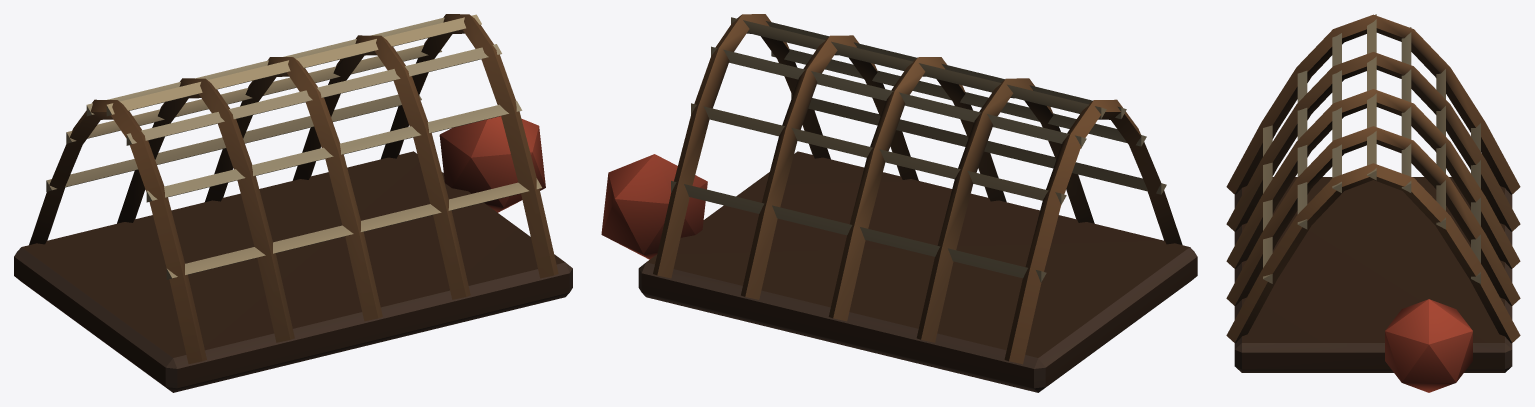
File: HD_LobsterPot.glb
The picture shows the model from 3 angles, left to right: view 1: azimuth 30°, elevation 25°; view 2: azimuth 150°, elevation 25°; view 3: azimuth 270°, elevation 25°; orthographic projection. The views are drawn at different scales.
Visible parts, largest first — view 1: HD_LobsterPot_1_Wood, HD_LobsterPot_2_SmoothPlastic; view 2: HD_LobsterPot_1_Wood, HD_LobsterPot_2_SmoothPlastic; view 3: HD_LobsterPot_1_Wood, HD_LobsterPot_2_SmoothPlastic.
Boxes of the visible parts, <box> form: HD_LobsterPot_1_Wood: <box>14,14,572,392</box>; HD_LobsterPot_2_SmoothPlastic: <box>46,14,545,279</box>; HD_LobsterPot_1_Wood: <box>638,14,1197,392</box>; HD_LobsterPot_2_SmoothPlastic: <box>601,17,1166,282</box>; HD_LobsterPot_1_Wood: <box>1226,14,1520,372</box>; HD_LobsterPot_2_SmoothPlastic: <box>1263,14,1480,392</box>.
Bounding box in the file's own units: 2.6 × 1.23 × 1.59.
